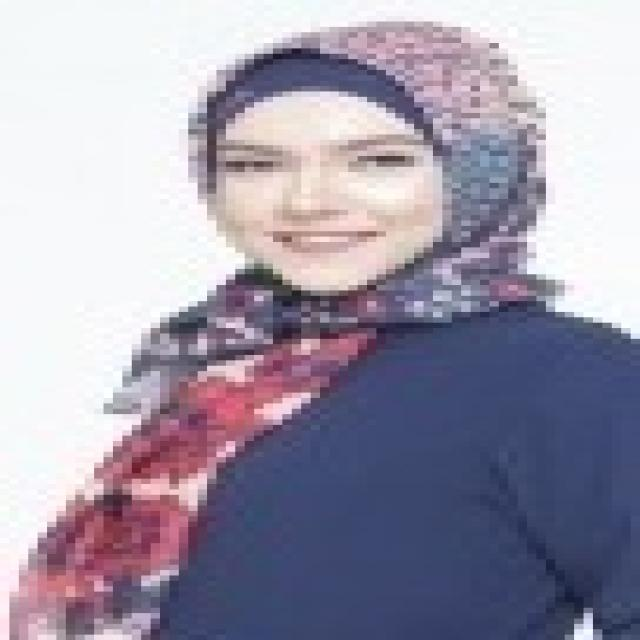head: (180, 19, 580, 304)
